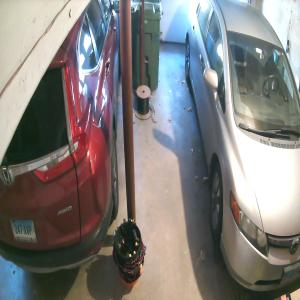garbage bin: (131, 0, 162, 92)
honda civic: (185, 0, 300, 295)
honda crv: (0, 0, 121, 275)
tool bucket: (112, 217, 147, 287)
